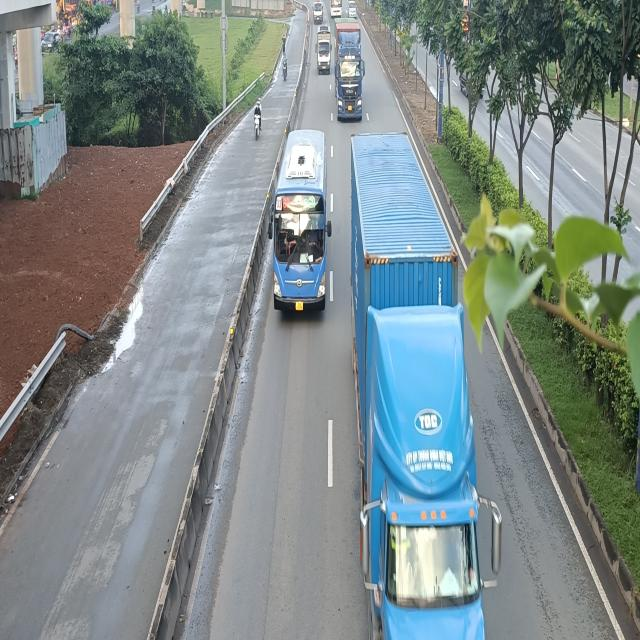coach: (265, 126, 331, 314)
container: (353, 131, 503, 640), (335, 22, 365, 123)
truck: (316, 31, 332, 75)
